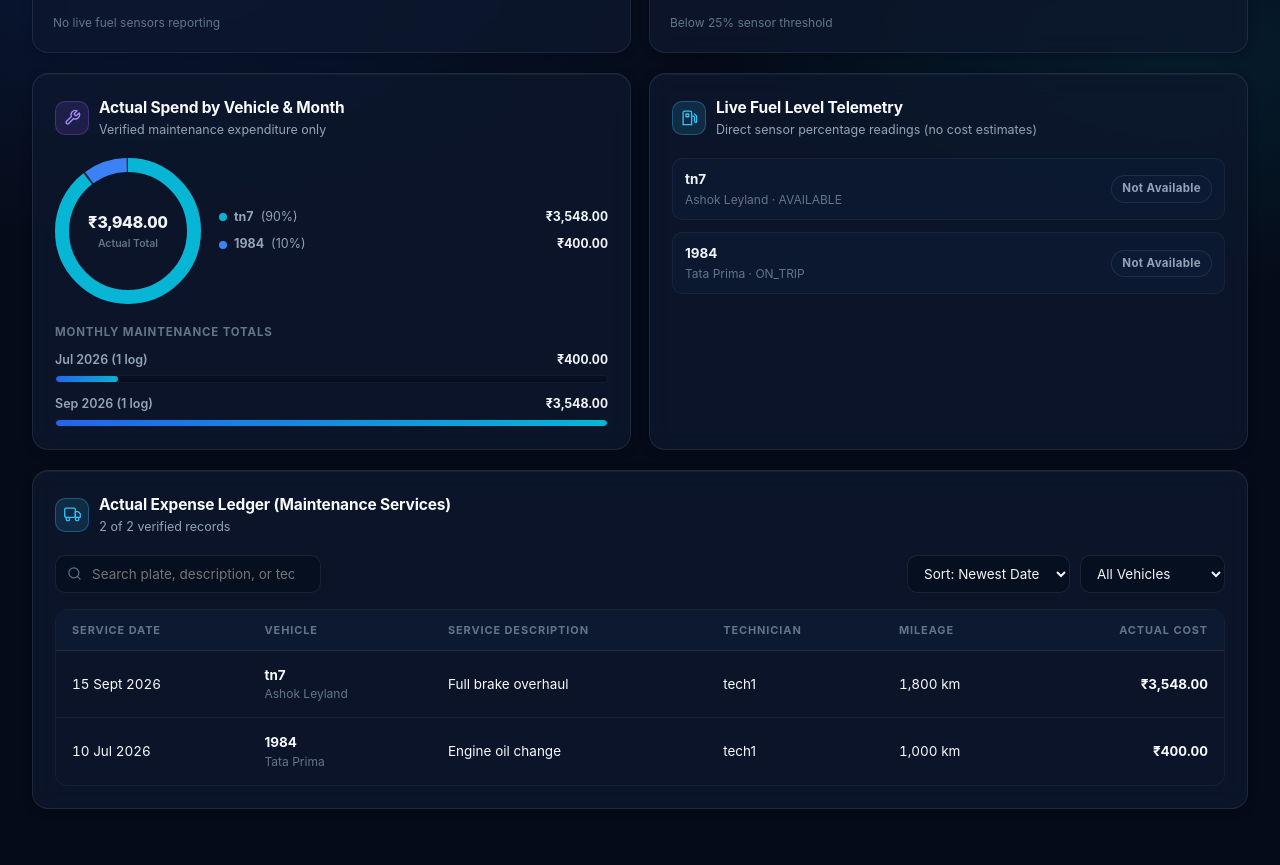
Test case: P5-1 — FuelExpensesPage renders real INR maintenance spend, transparency banner, offline fuel telemetry, filtering & CSV export
Later steps or results of the test are not shown.
(page scrolled)
Expected: the text "Full brake overhaul" is shown, [432,650,707,718]
Expected: the text "Jul 2026 (1 log)" is shown, [55,351,148,370]
# Filter ledger by search
Type "brake" into the search field with placeholder "Search plate, description, or technician..." at {"x": 188, "y": 574}, box [55,554,321,592]
(page scrolled)
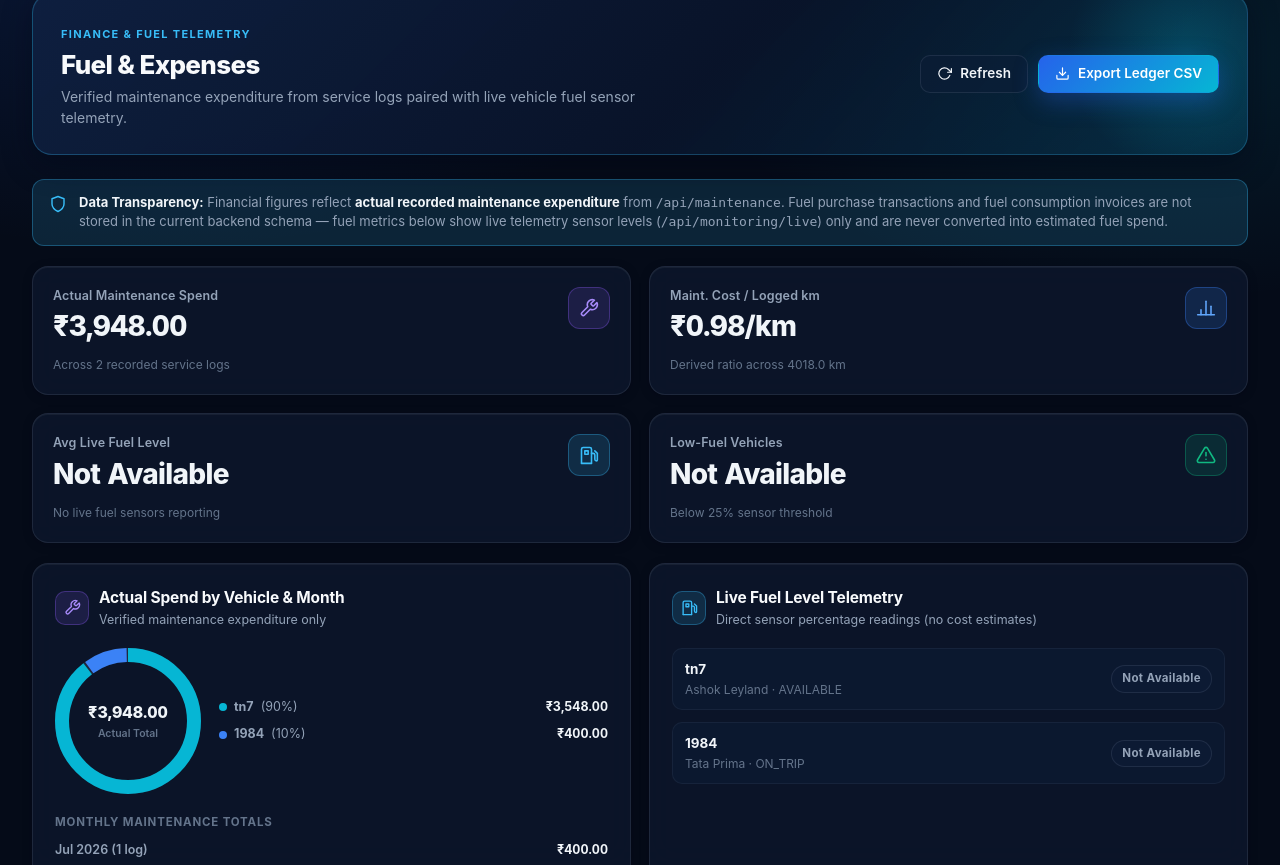
Result: the text "Engine oil change" is gone
